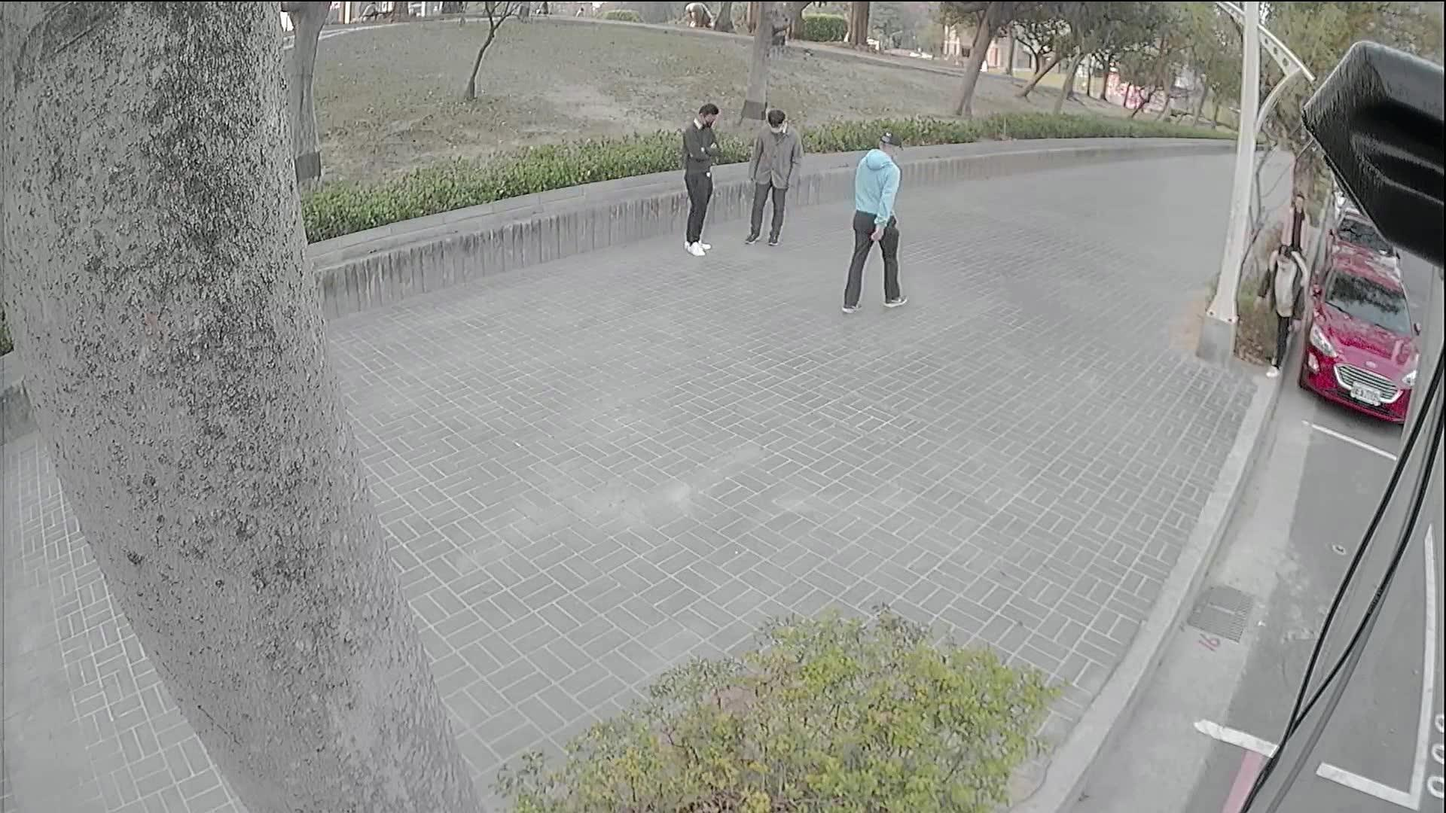person: (834, 133, 911, 315), (747, 108, 798, 241), (681, 105, 726, 253), (1268, 239, 1304, 374), (1286, 192, 1306, 249)
